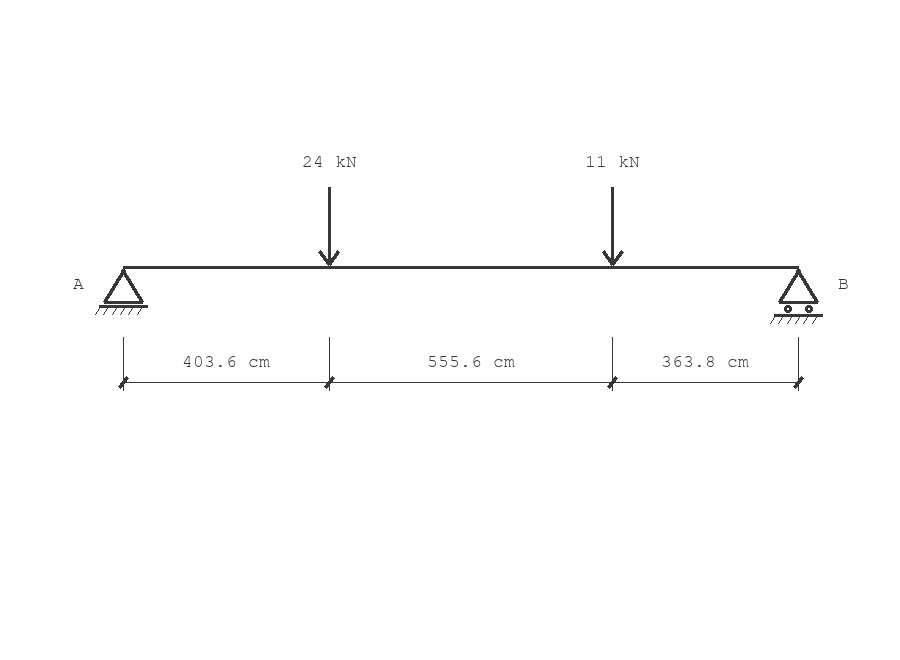pin_support: (95, 269, 148, 315)
point_load: (318, 187, 340, 266), (602, 187, 624, 266)
roller_support: (770, 269, 823, 324)
